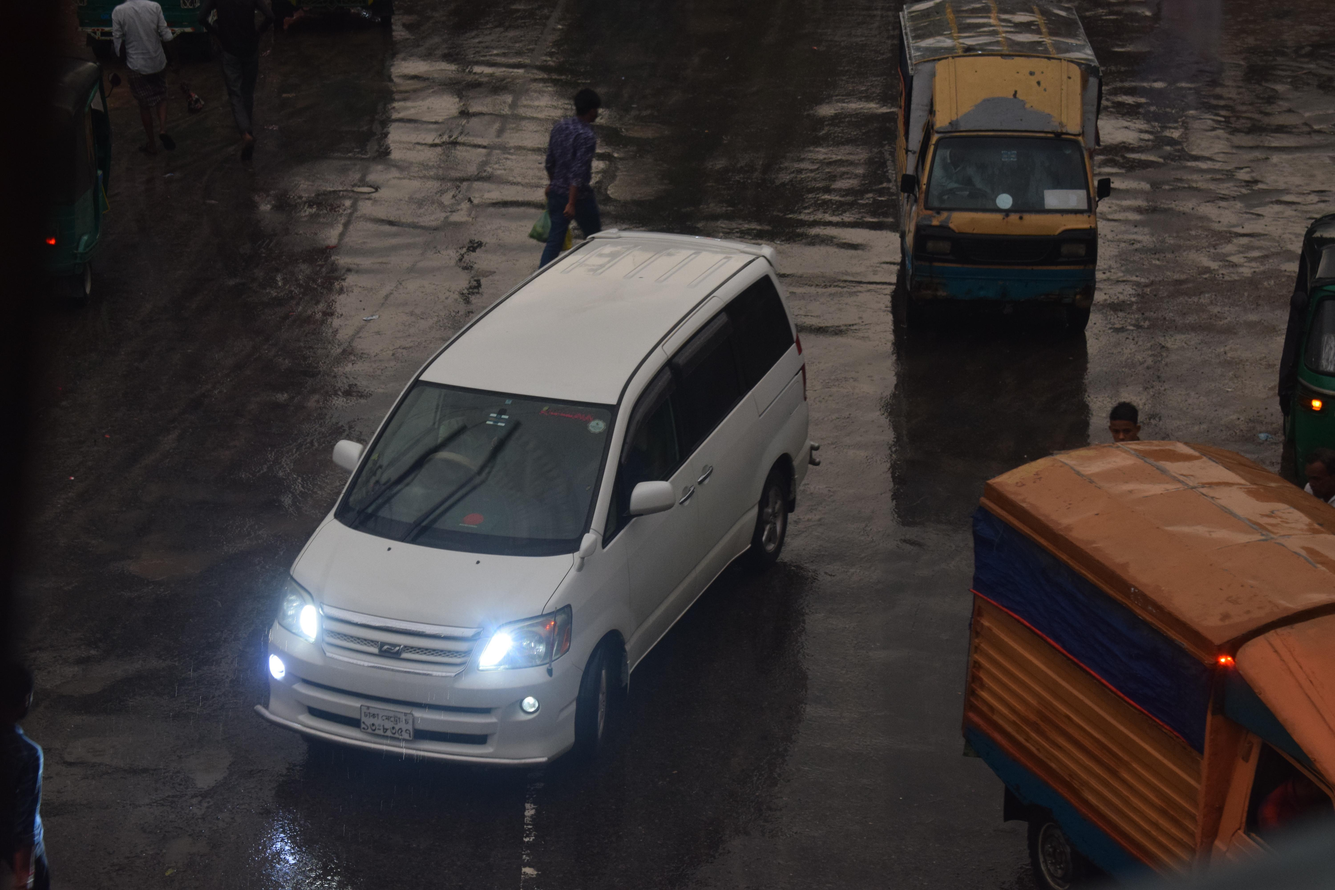Car: (202, 202, 843, 818), (916, 370, 1335, 890), (854, 0, 1164, 357)
